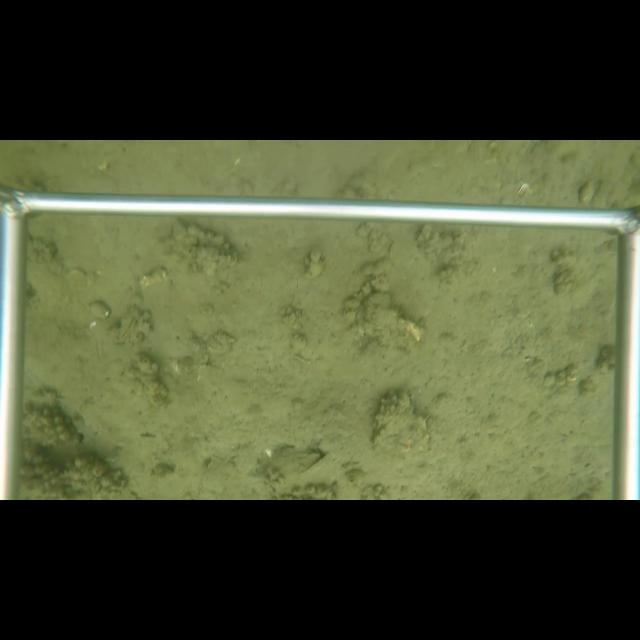Oyster-Closed: (368, 386, 428, 462), (350, 288, 400, 340), (119, 313, 137, 344)
Oyster-Open: (298, 450, 335, 478)
